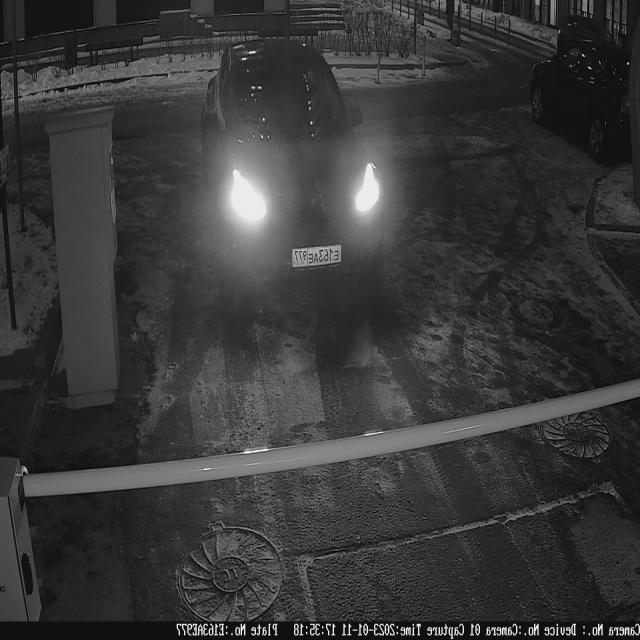car-plate-numbers: (287, 238, 345, 273)
